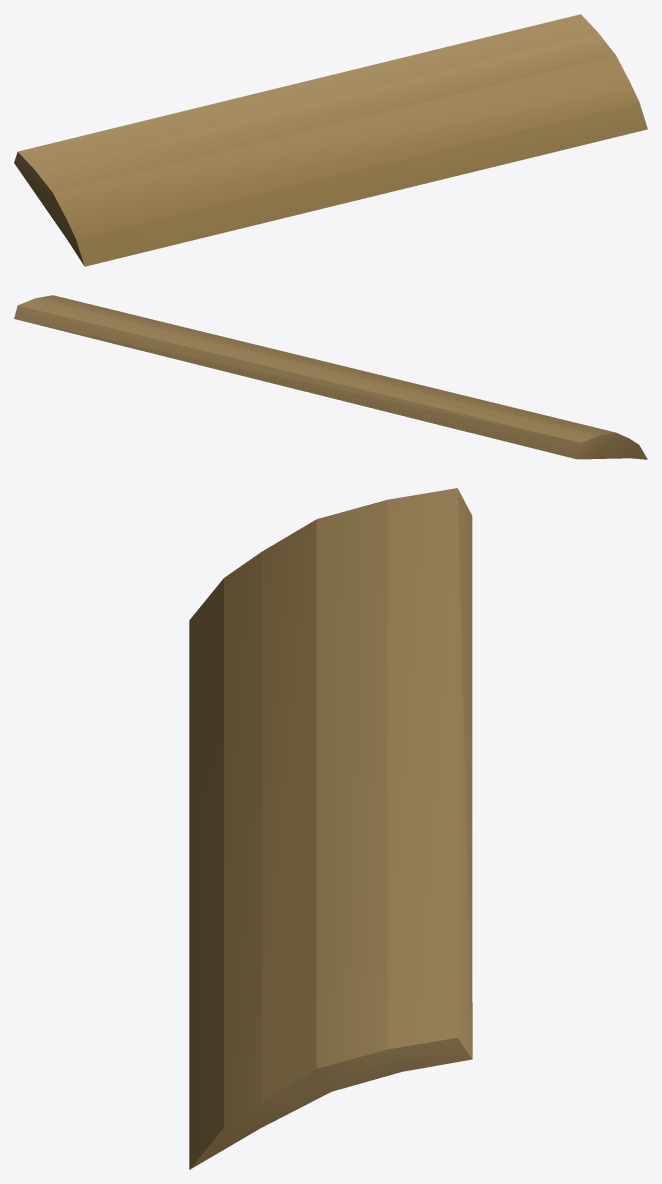
File: Farmhouse_LowerRoof.fbx
3 views of the same model, one above another, from view 1: azimuth 30°, elevation 25°; view 2: azimuth 150°, elevation 25°; view 3: azimuth 270°, elevation 25° (orthographic). The views are drawn at different scales.
Parts seen in each view (by area): view 1: Farmhouse_LowerRoof; view 2: Farmhouse_LowerRoof; view 3: Farmhouse_LowerRoof.
Boxes of the visible parts, left/top/right/bottom form: Farmhouse_LowerRoof: left=14, top=14, right=647, bottom=266; Farmhouse_LowerRoof: left=14, top=295, right=647, bottom=459; Farmhouse_LowerRoof: left=189, top=488, right=472, bottom=1169.
Size of the model in its own units: 4.83 by 0.5418 by 1.05.
1 material, 1 textured.
